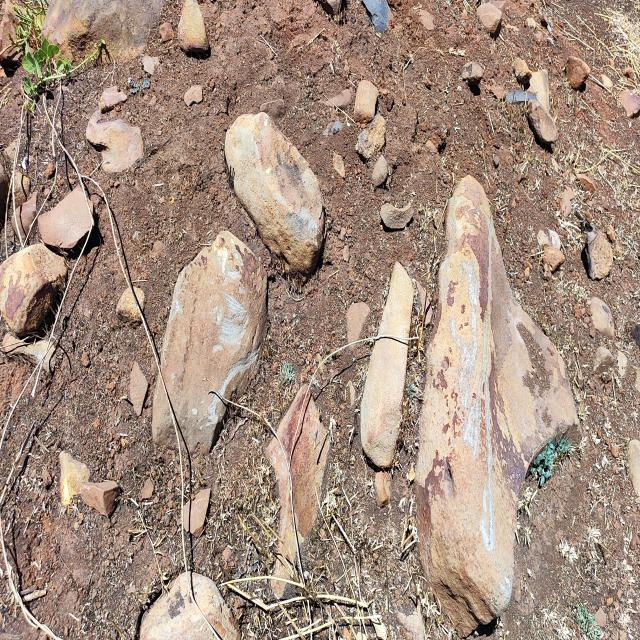rock: (416, 167, 581, 624), (147, 229, 267, 459), (222, 108, 326, 285), (268, 372, 334, 594), (356, 256, 413, 486), (129, 549, 244, 640), (39, 0, 166, 67), (32, 177, 98, 273), (50, 446, 124, 523), (86, 109, 144, 179), (524, 96, 564, 161), (174, 0, 211, 65), (350, 75, 382, 132), (351, 0, 395, 35), (559, 49, 592, 95), (474, 0, 507, 46)
